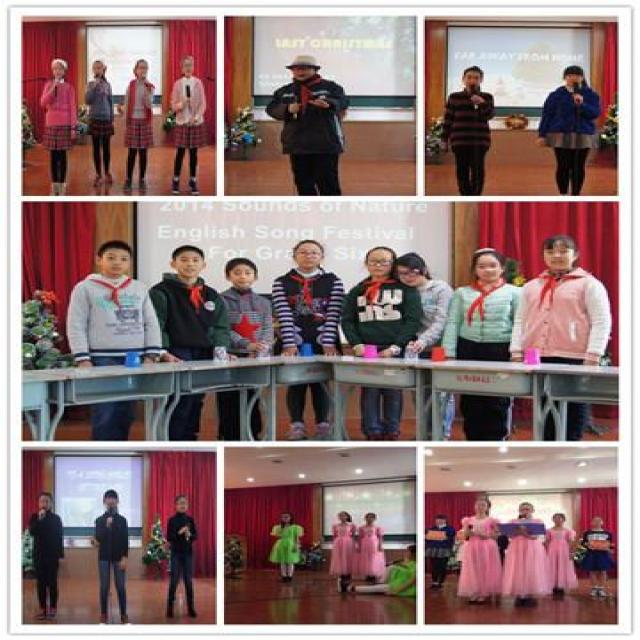non-fight: (265, 54, 356, 195), (436, 64, 498, 198), (21, 488, 64, 621), (89, 487, 130, 626), (119, 57, 158, 192)
